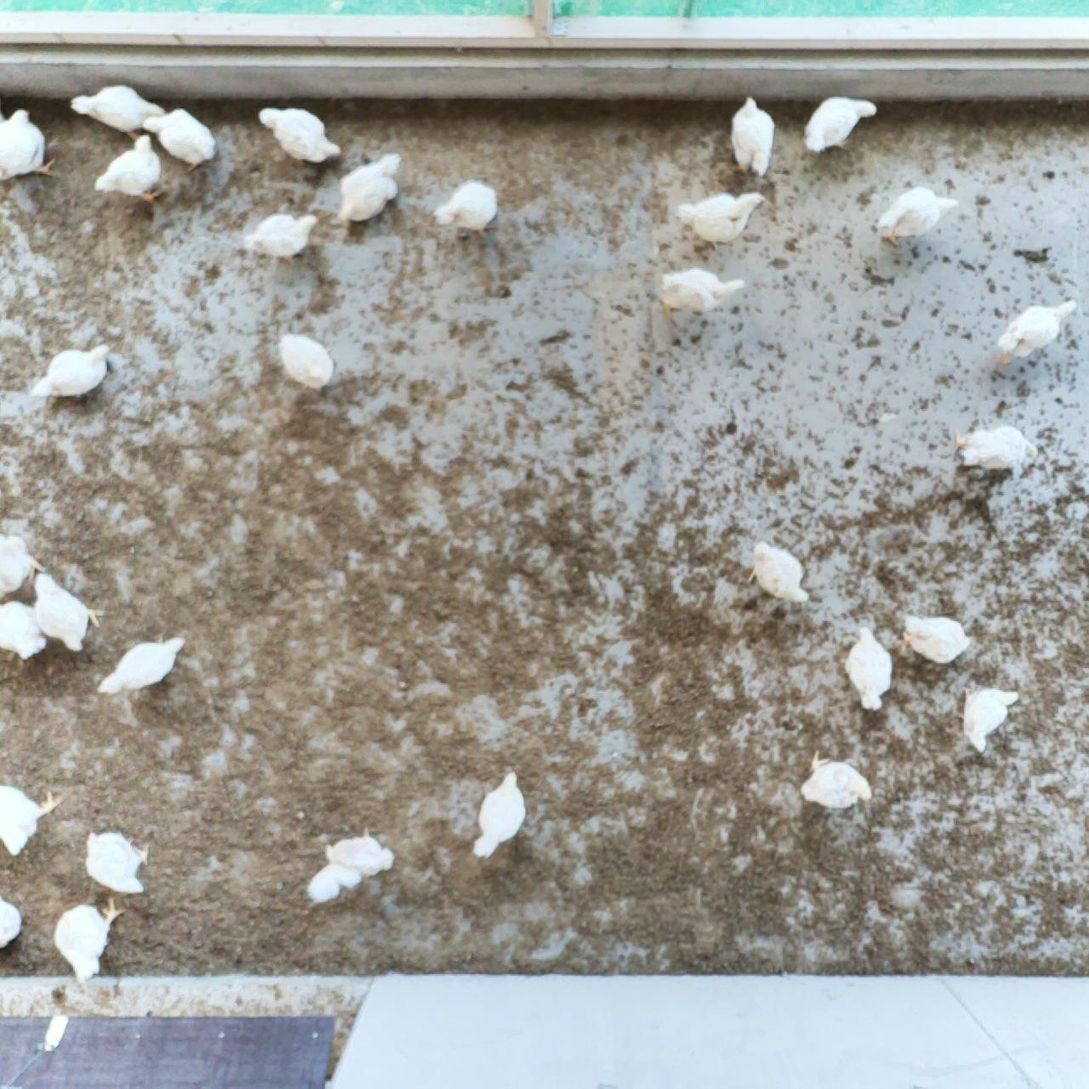chicken: (306, 824, 395, 908), (29, 569, 106, 652), (993, 296, 1080, 369), (71, 80, 168, 143), (467, 765, 526, 868), (96, 630, 188, 695), (89, 133, 173, 204), (55, 898, 126, 982), (875, 182, 962, 250), (649, 258, 748, 317), (673, 187, 768, 248), (335, 148, 406, 229), (258, 103, 345, 168), (143, 103, 219, 175), (958, 676, 1022, 759), (31, 341, 113, 405), (842, 621, 897, 714), (0, 103, 63, 183), (798, 747, 878, 810), (803, 93, 879, 158), (83, 825, 149, 898), (897, 609, 978, 668), (0, 781, 60, 859), (745, 539, 811, 608), (728, 91, 778, 181), (435, 175, 505, 239), (949, 423, 1039, 470), (242, 207, 318, 259), (277, 328, 338, 392), (0, 597, 48, 660), (0, 529, 45, 596), (0, 892, 23, 950)
